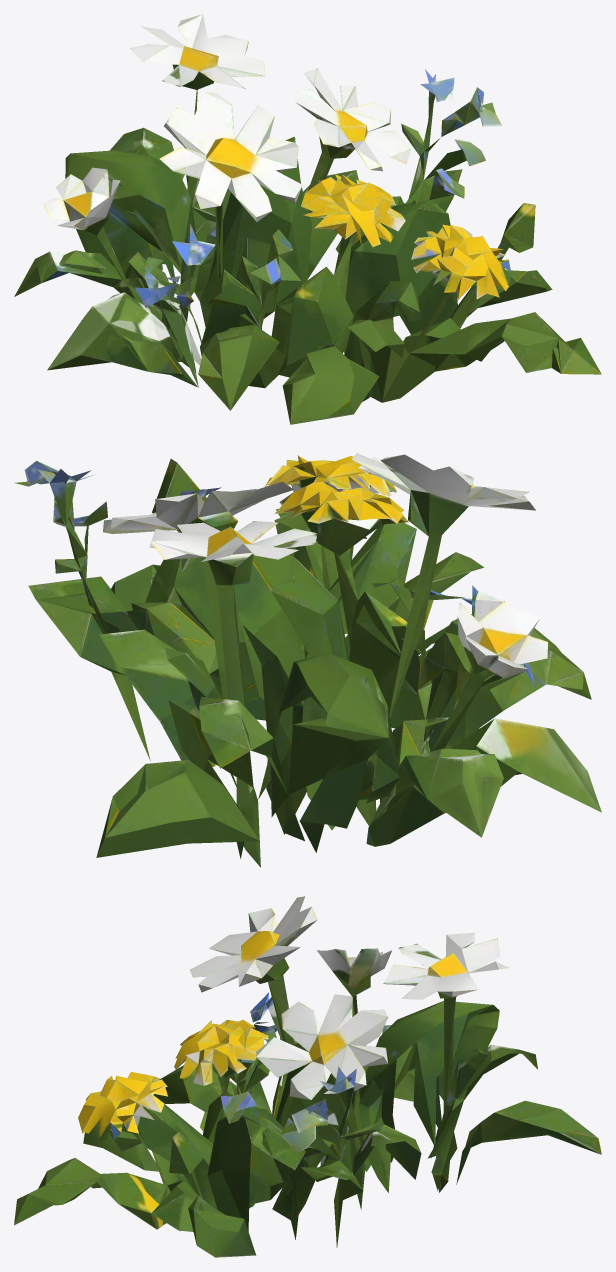
Rendered from flower-daisy.glb.
3 views of the same model, one above another, from view 1: azimuth 30°, elevation 25°; view 2: azimuth 150°, elevation 25°; view 3: azimuth 270°, elevation 25° (orthographic). The views are drawn at different scales.
Parts seen in each view (by area): view 1: flower-daisy-fit; view 2: flower-daisy-fit; view 3: flower-daisy-fit.
Part boxes in pixels (box(x1,y1,x2,y2)): flower-daisy-fit: box(14, 14, 601, 424); flower-daisy-fit: box(14, 453, 601, 867); flower-daisy-fit: box(14, 896, 601, 1257).
Size of the model in its own units: 0.4973 by 0.3 by 0.5973.
Materials: 1 (1 with a texture image).
